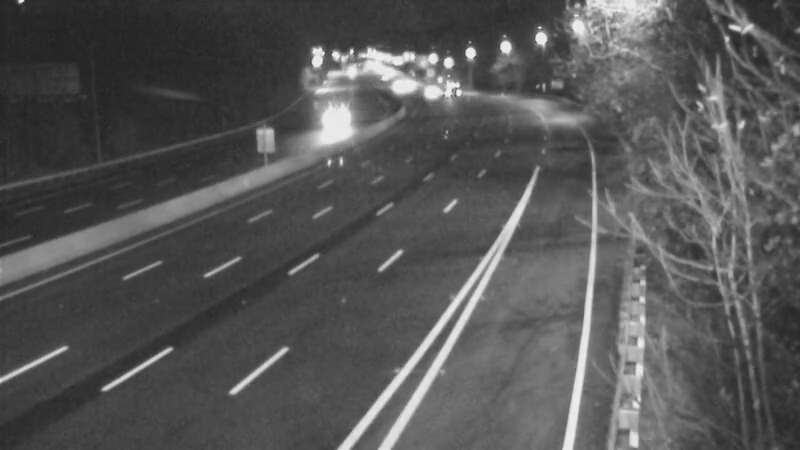vehicle: (371, 63, 421, 113), (426, 61, 476, 111), (407, 71, 457, 121), (307, 94, 357, 144)
